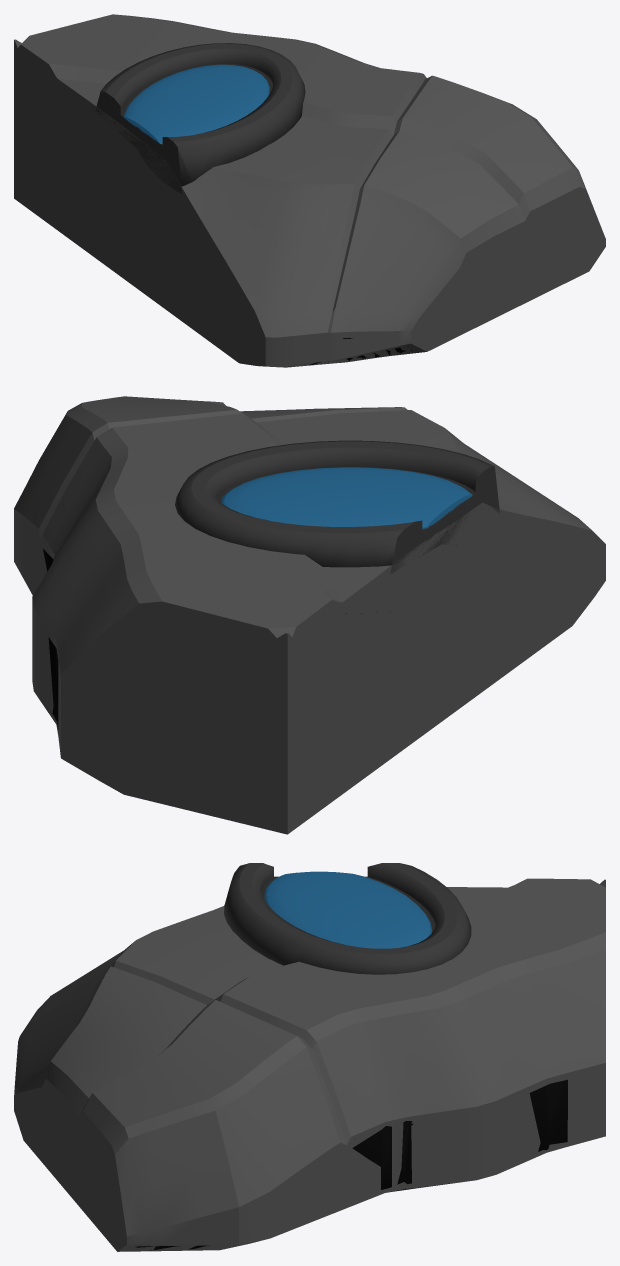
The model's file is newsh-caret-52.glb.
The picture shows the model from 3 angles, top to bottom: view 1: azimuth 30°, elevation 25°; view 2: azimuth 150°, elevation 25°; view 3: azimuth 270°, elevation 25°; orthographic projection. The views are drawn at different scales.
Parts seen in each view (by area): view 1: newsh-caret-52; view 2: newsh-caret-52, newsh-caret-52_outline; view 3: newsh-caret-52, newsh-caret-52_outline.
Boxes of the visible parts, bbox=[...] form: newsh-caret-52: bbox=[14, 14, 605, 367]; newsh-caret-52: bbox=[14, 396, 605, 834]; newsh-caret-52_outline: bbox=[43, 549, 390, 729]; newsh-caret-52: bbox=[14, 863, 605, 1251]; newsh-caret-52_outline: bbox=[135, 1079, 567, 1250].
Bounding box in the file's own units: 1.91 × 0.838 × 2.32.
